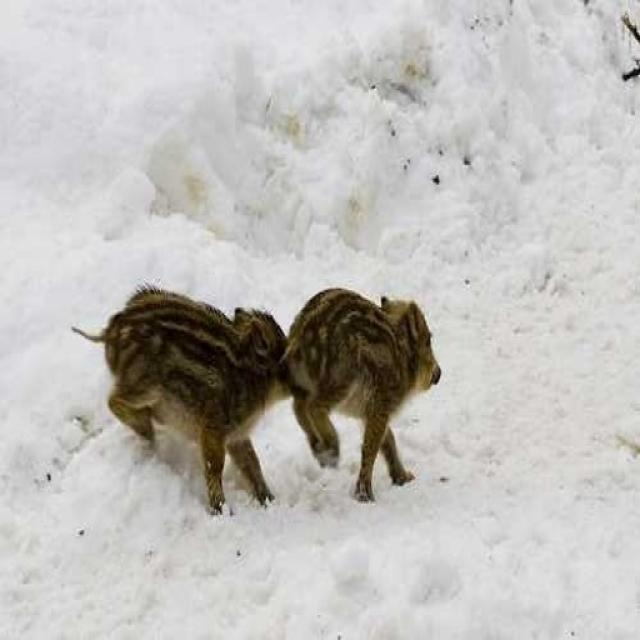pig: (65, 236, 282, 480), (270, 260, 458, 470)
